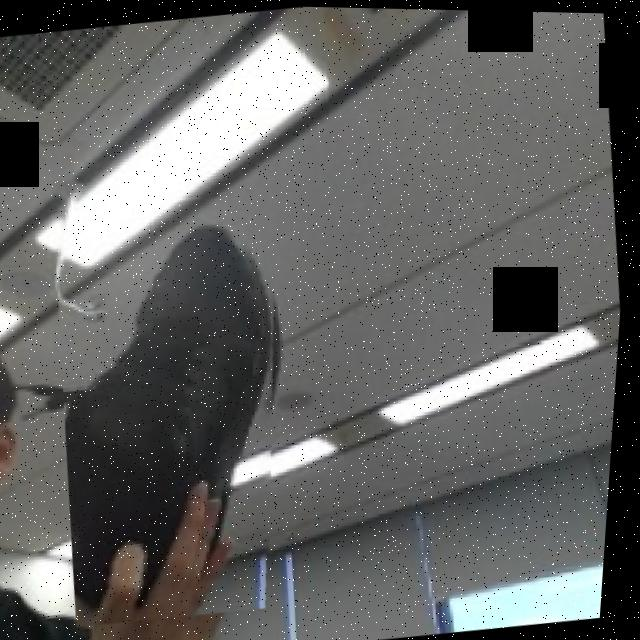shoe: (37, 208, 326, 630)
